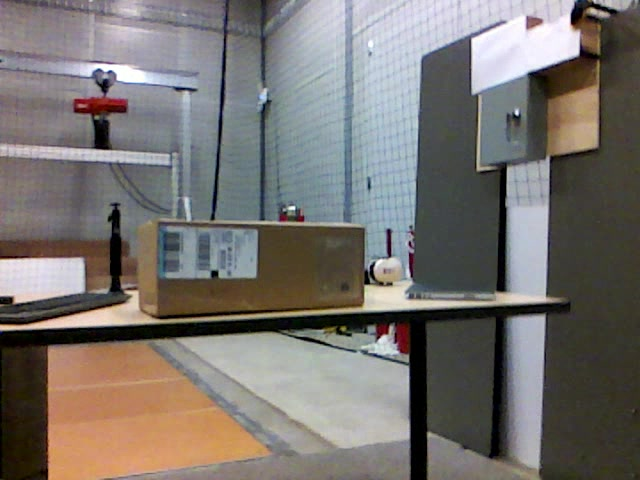box: (138, 220, 363, 317)
